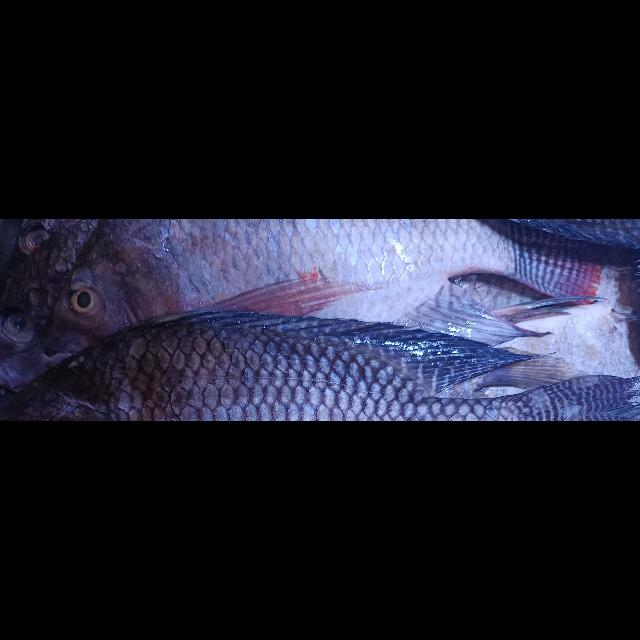Tilapia: (36, 220, 604, 350)
